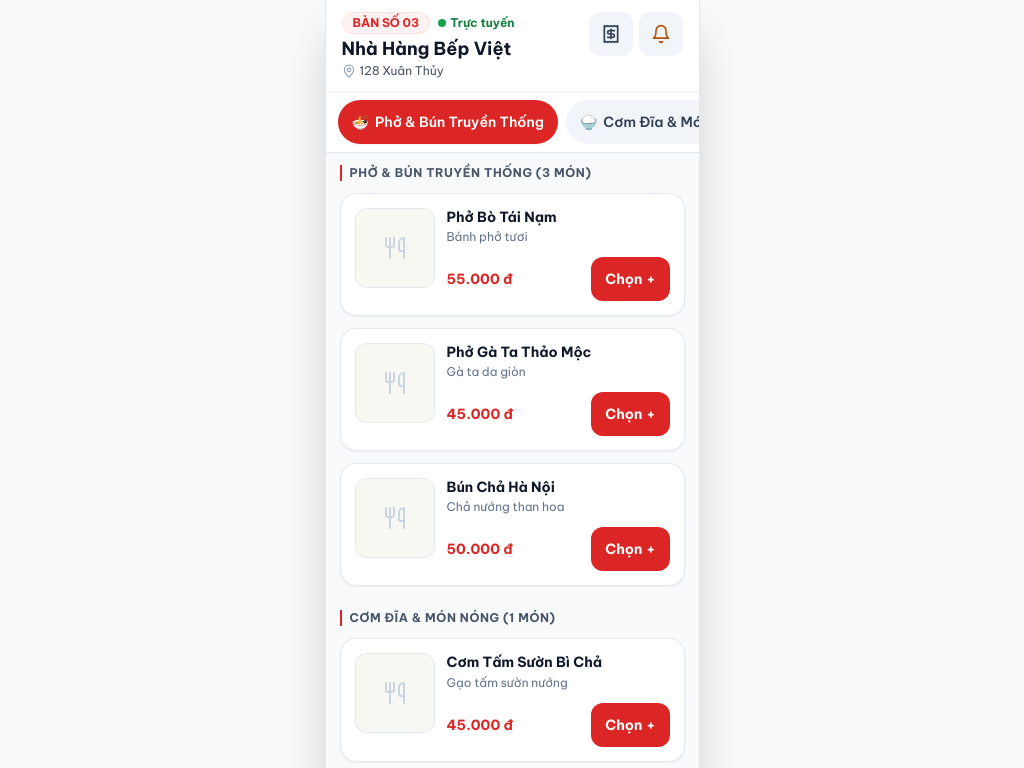
Story C2: Menu theo danh mục (ClientPage) › Story C3: Chọn tuỳ chọn món & Bottom Sheet › opens ProductSheet when clicking a product with options (e.g. Phở Bò Tái Nạm)
Click the button with test id "product-add-btn-1" at [630, 279], box [591,257,670,301]
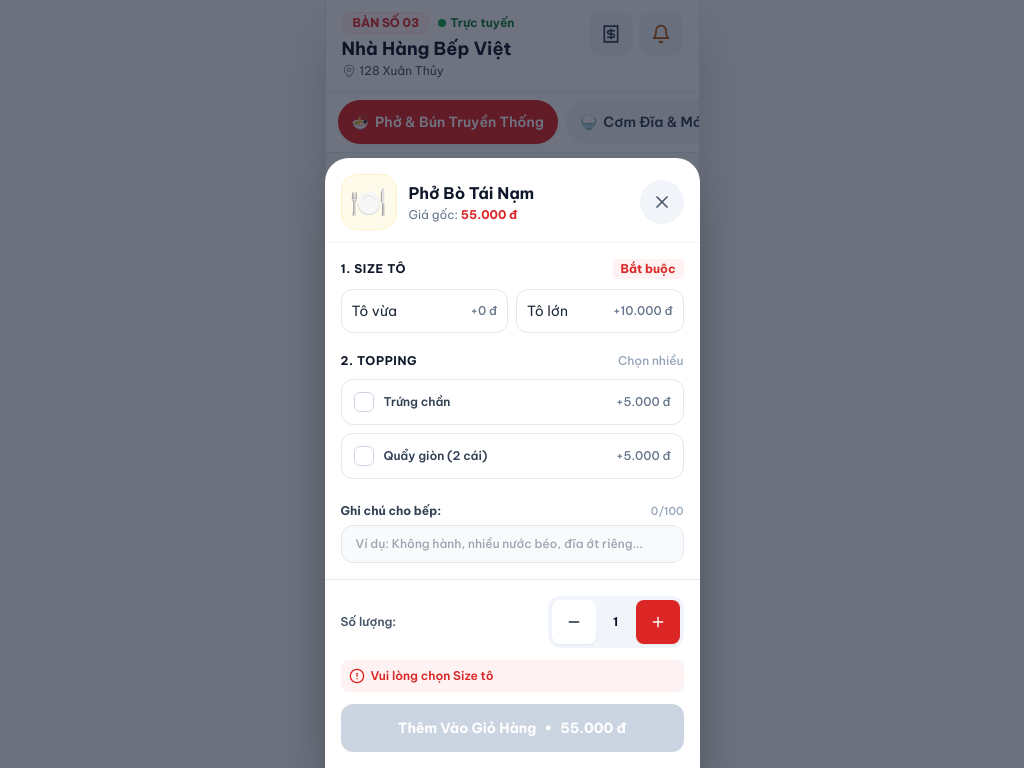
Result: the dialog with test id "product-sheet-container" is shown
Result: the element with test id "validation-error-message" reads "Vui lòng chọn Size tô" at [340,660,684,692]
Click the button with test id "option-item-2" at [600, 310], box [516,288,684,332]
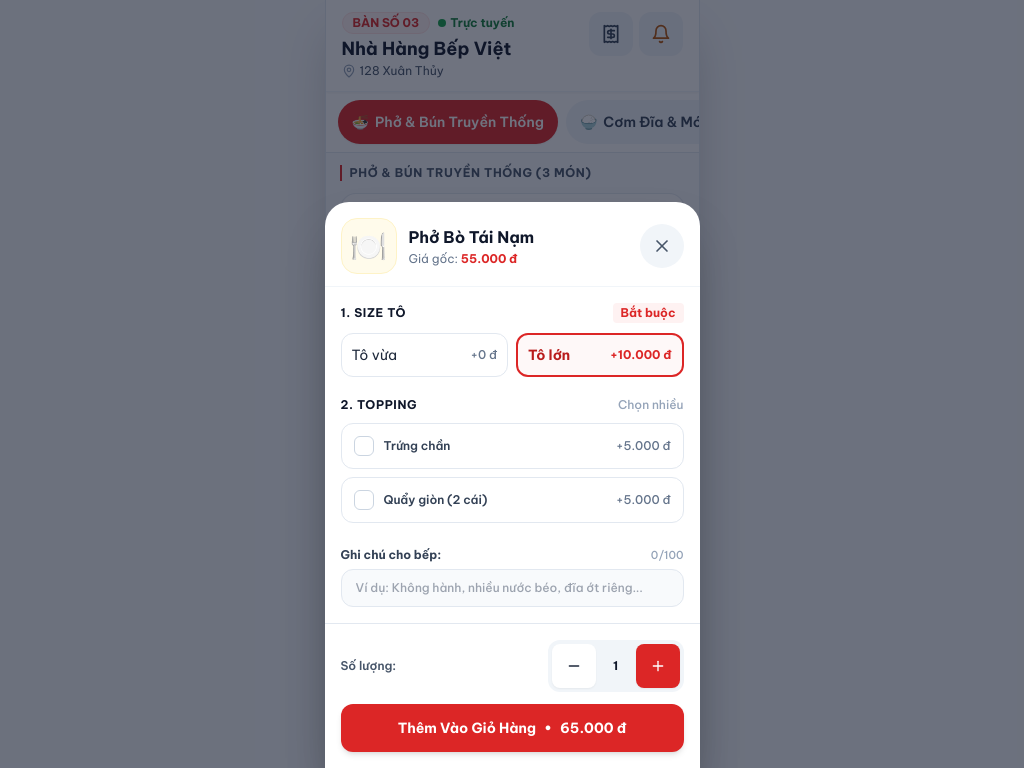
Result: the element with test id "validation-error-message" is gone
Click the button with test id "add-to-cart-submit-btn" at [512, 728], box [340,704,684,752]
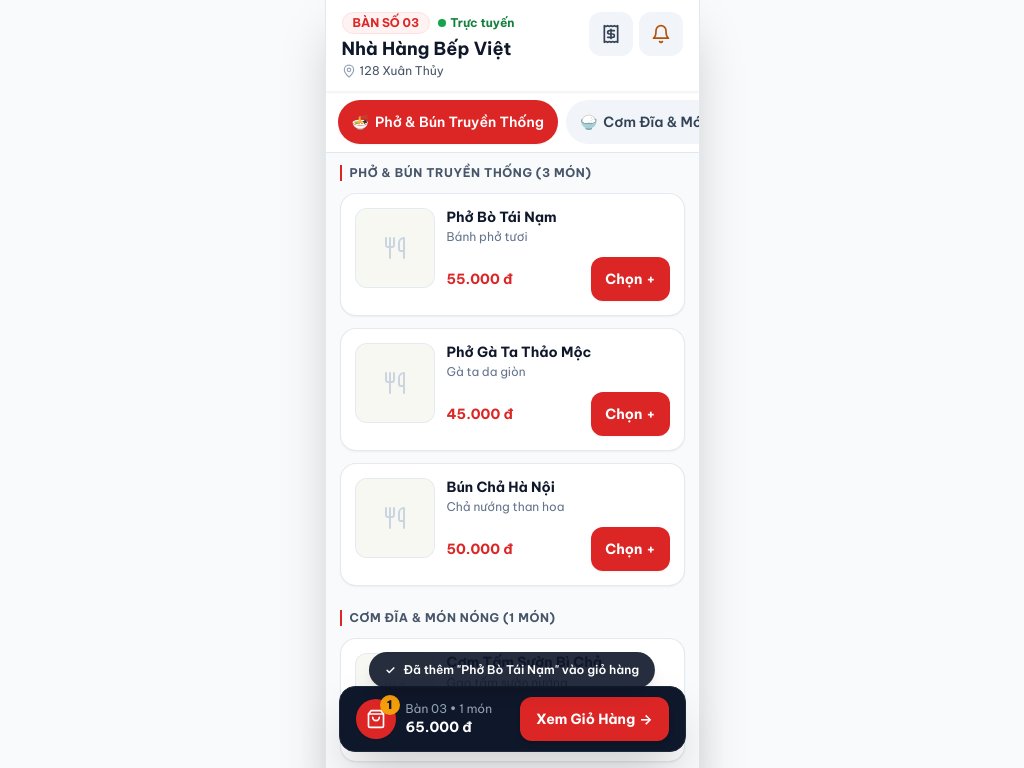
Result: the text "Đã thêm \"Phở Bò Tái Nạm\" vào giỏ hàng" is shown at [404,662,639,678]
Result: the dialog with test id "product-sheet-container" is gone
